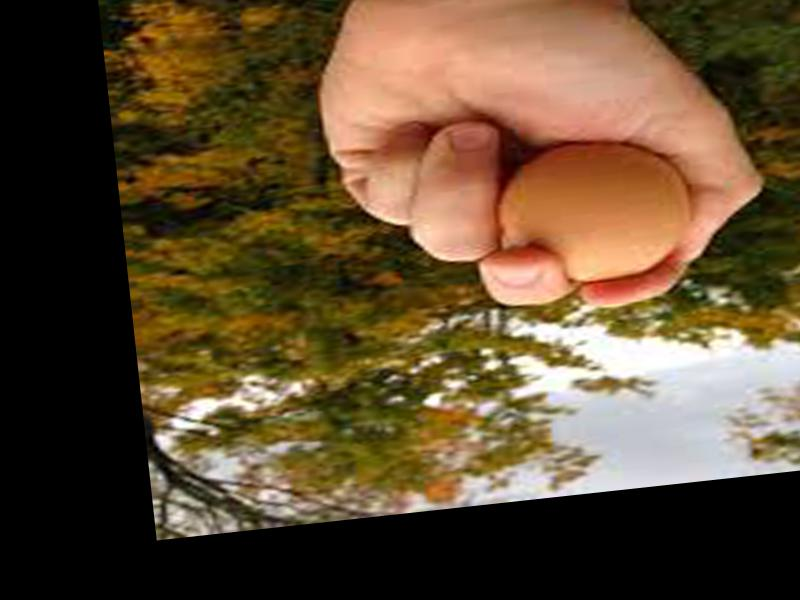Eggs: (483, 133, 695, 290)
